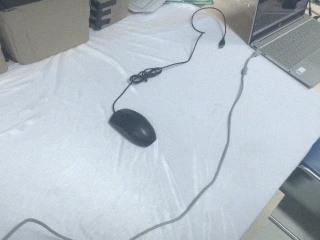box: (1, 1, 91, 65), (88, 1, 130, 31), (1, 34, 9, 79)
mouse: (107, 107, 157, 148)
